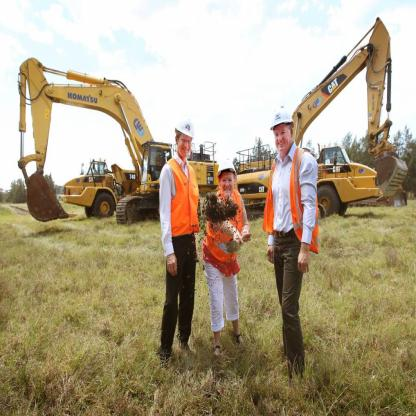person: (264, 101, 323, 384), (154, 109, 202, 383), (206, 137, 246, 359)
